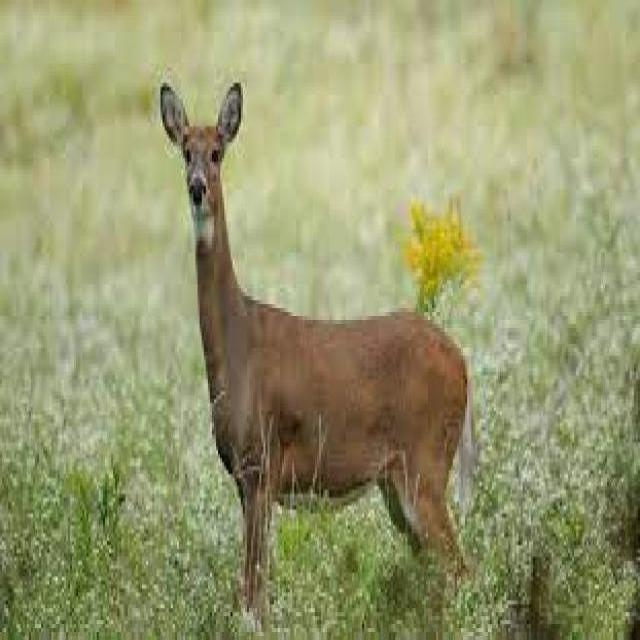deer: (152, 73, 476, 604)
